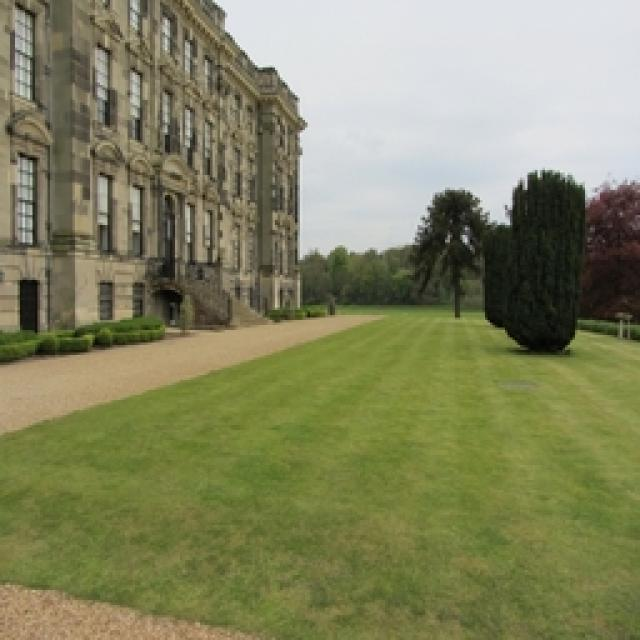Abbey: (1, 3, 319, 378)
